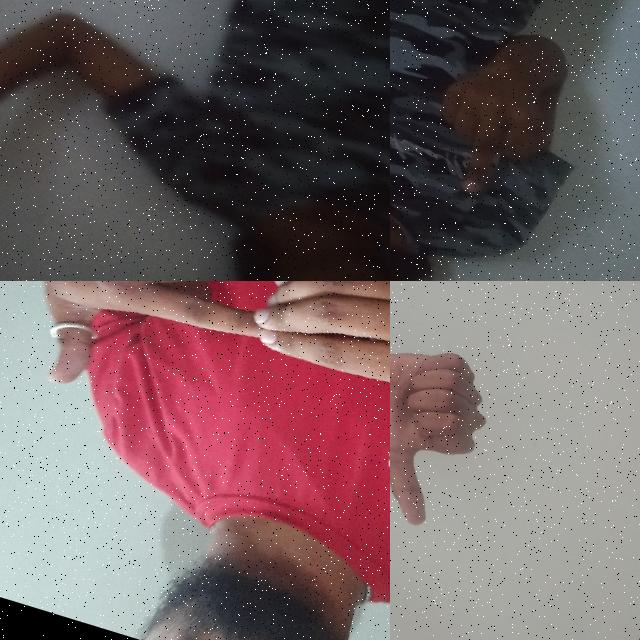Five Fathers: (0, 281, 390, 510)
Middle Finger: (410, 9, 580, 217)
Thumbs Up: (390, 310, 512, 544)
